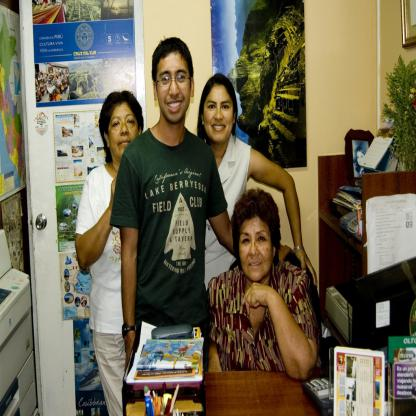book: (130, 323, 209, 416), (326, 346, 394, 411), (384, 338, 416, 416), (135, 335, 202, 371)
